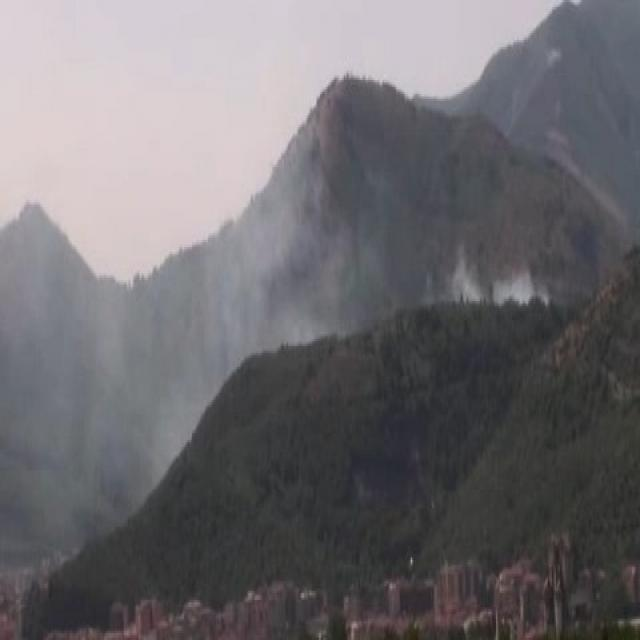smoke: (214, 183, 336, 349), (457, 257, 538, 305)
